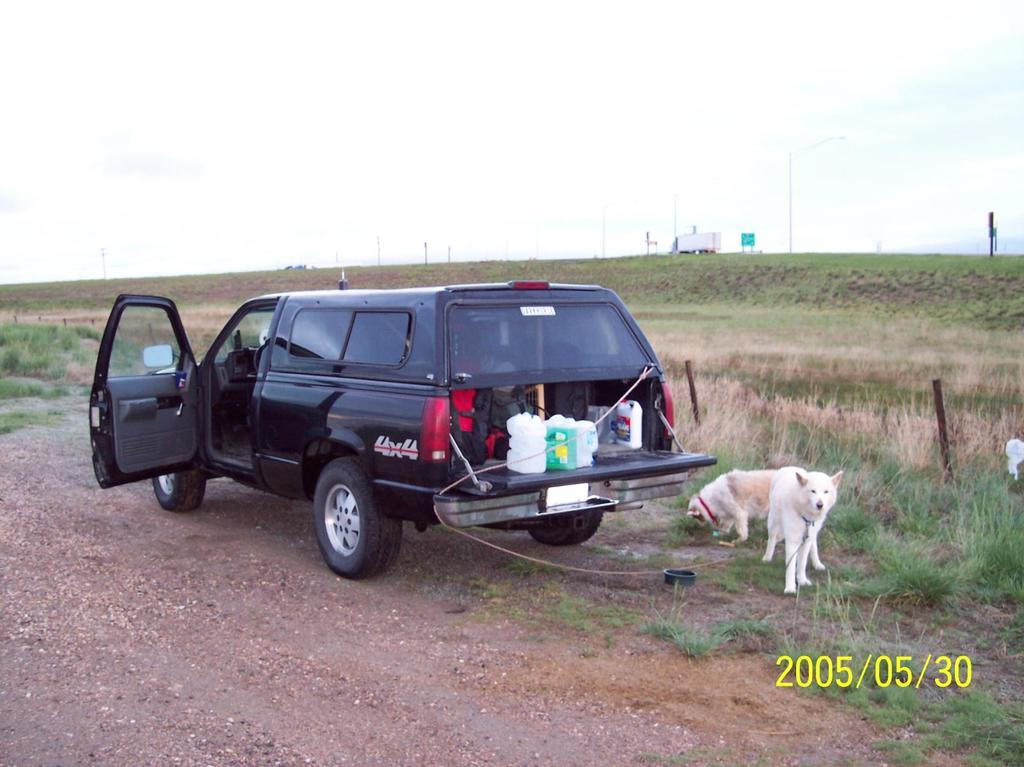Car: (86, 279, 721, 580)
